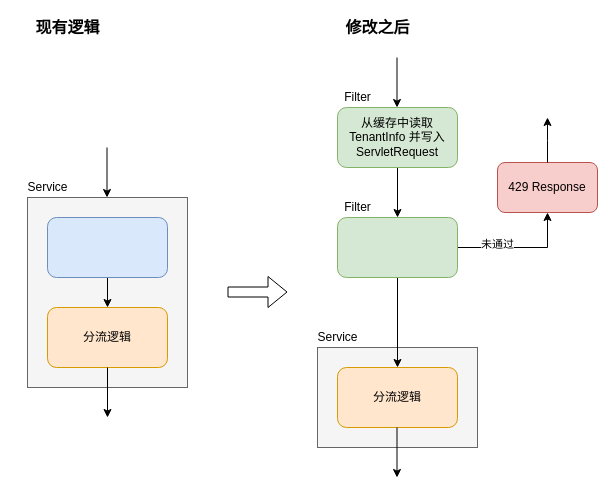
Image size: 615x503. Some labels were removed from this diagram. The shapes that lost their labels are listed below. From the top down, each one's box as (x1, y1, x2, y2) in pixels, then its label:
(46, 216, 168, 278): 从 MySQL 读取 TenantInfo
(336, 216, 458, 278): 限流逻辑
